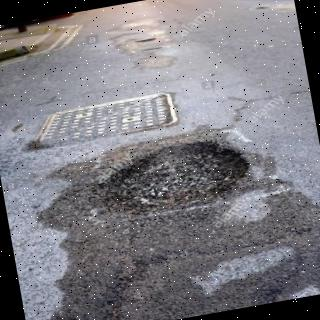pothole: (104, 142, 250, 214)
